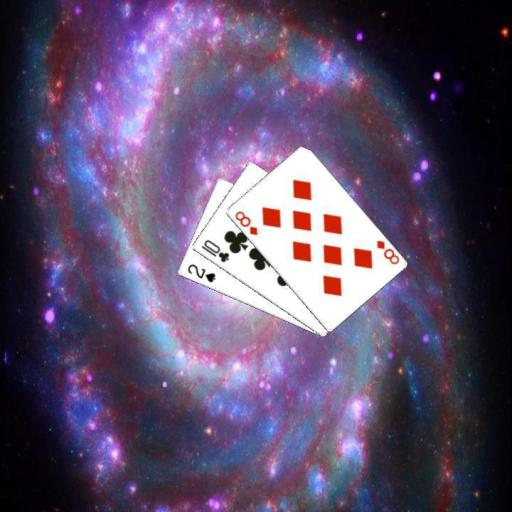card-corner: (198, 236, 230, 264), (231, 208, 259, 236), (184, 261, 217, 284), (374, 237, 400, 266)
